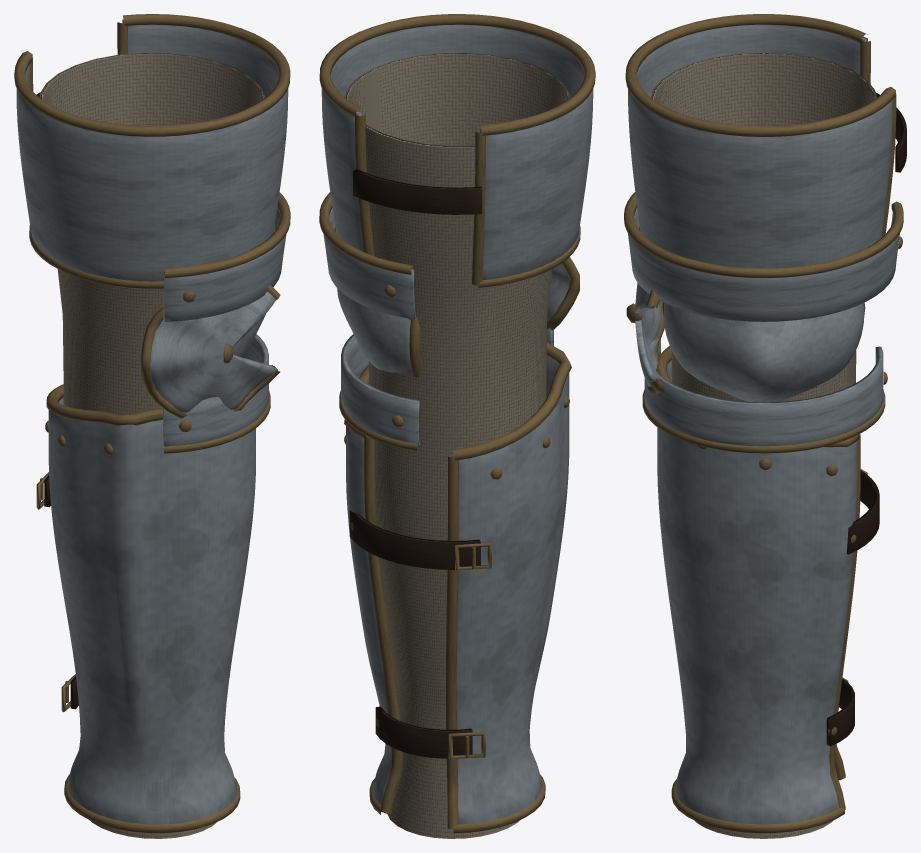
3 renders of one model, left to right at view 1: azimuth 30°, elevation 25°; view 2: azimuth 150°, elevation 25°; view 3: azimuth 270°, elevation 25°, orthographic.
Parts seen in each view (by area): view 1: hammered plate, quilted linen lining, aged alloy edge; view 2: hammered plate, quilted linen lining, aged alloy edge, oiled strap leather; view 3: hammered plate, aged alloy edge, quilted linen lining, oiled strap leather.
Boxes of the visible parts, x1,y1,x2,y2 form: hammered plate: (16, 19, 288, 824); quilted linen lining: (39, 52, 265, 838); aged alloy edge: (14, 14, 290, 833); hammered plate: (321, 24, 593, 824); quilted linen lining: (344, 52, 570, 838); aged alloy edge: (319, 14, 595, 833); oiled strap leather: (349, 169, 482, 758); hammered plate: (628, 24, 899, 824); aged alloy edge: (624, 14, 903, 833); quilted linen lining: (651, 52, 876, 838); oiled strap leather: (826, 92, 906, 746).
Bounding box in the file's own units: 0.1502 × 0.4439 × 0.1538.
Materials: 4 (4 with a texture image).
